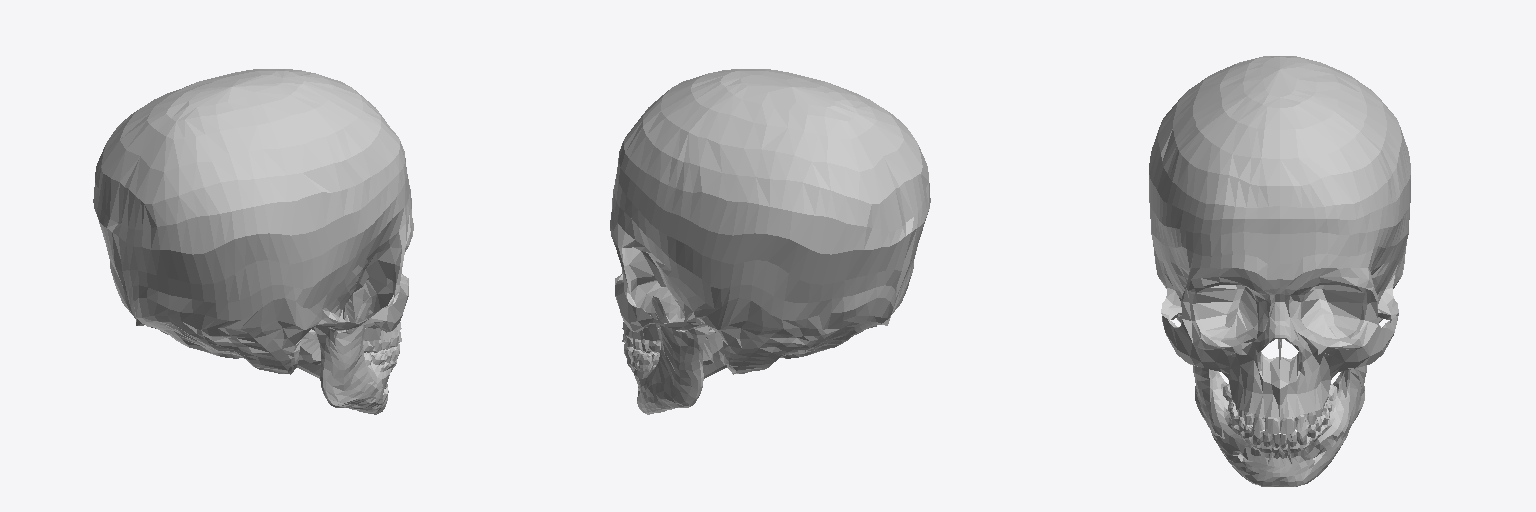
The model's file is skull-1.obj.
The picture shows the model from 3 angles: view 1: azimuth 30°, elevation 25°; view 2: azimuth 150°, elevation 25°; view 3: azimuth 270°, elevation 25°; orthographic projection.
Bounding box in the file's own units: 6.3 × 7.32 × 4.96.